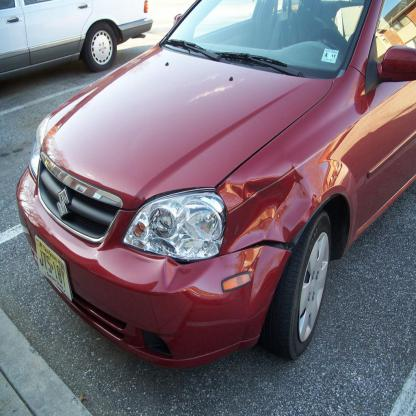door: (364, 81, 414, 229)
front_bumper: (16, 163, 290, 368)
headlamp: (124, 188, 224, 262), (28, 116, 47, 180)
hood: (41, 43, 332, 209)
